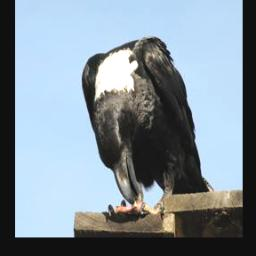Crow: (80, 31, 215, 220)
